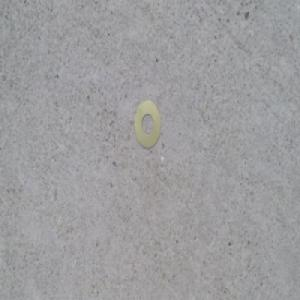Washer: (133, 97, 163, 150)
